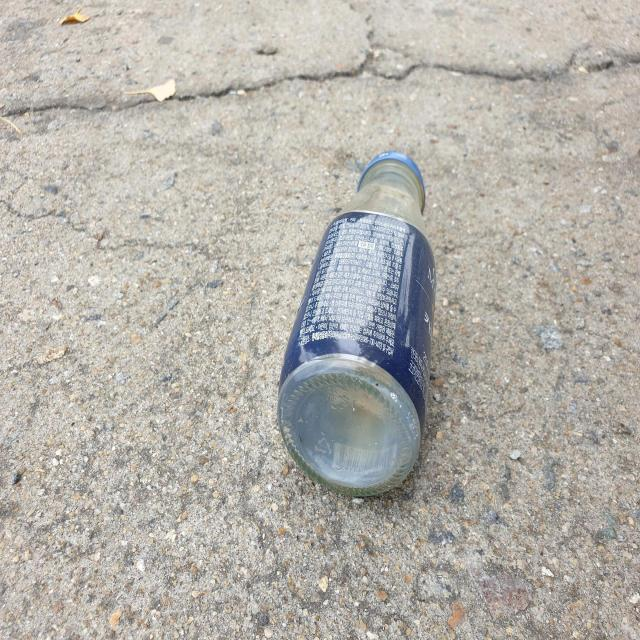glass: (278, 151, 436, 497)
